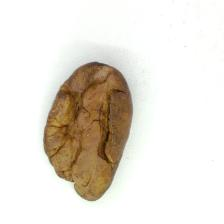NG: (61, 79, 116, 185)
